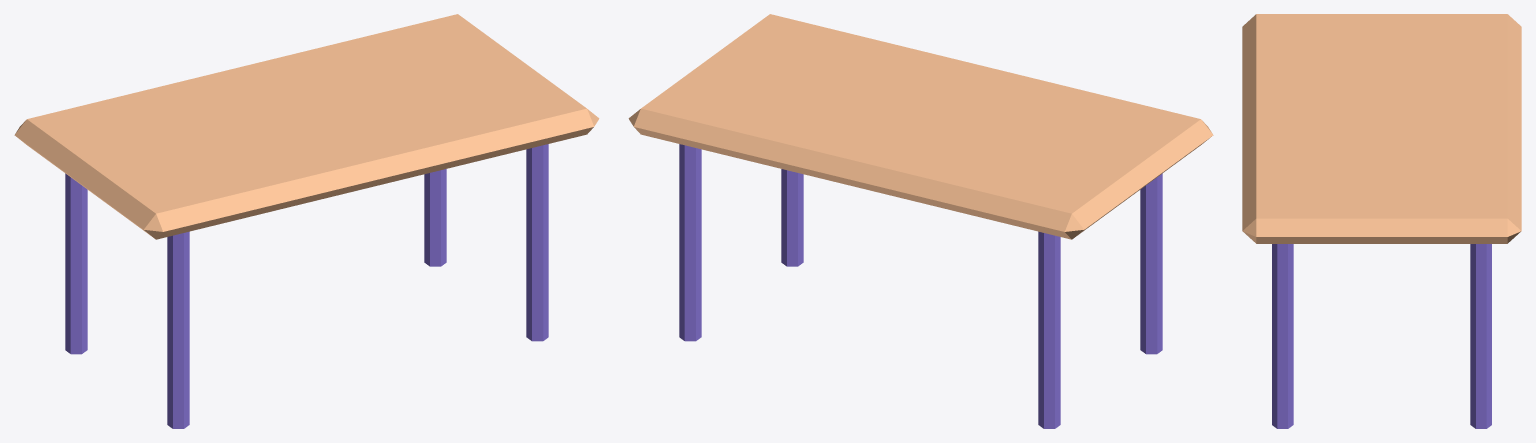
3 views of the same model, side by side, from view 1: azimuth 30°, elevation 25°; view 2: azimuth 150°, elevation 25°; view 3: azimuth 270°, elevation 25° (orthographic). The views are drawn at different scales.
Parts seen in each view (by area): view 1: Rounded table top, Leg.002, Leg, Leg.001, Leg.003; view 2: Rounded table top, Leg.003, Leg.001, Leg, Leg.002; view 3: Rounded table top, Leg.002, Leg.003.
Part boxes in pixels (left/top/right/bottom): Rounded table top: left=14, top=14, right=599, bottom=239; Leg.002: left=526, top=144, right=548, bottom=341; Leg: left=167, top=231, right=189, bottom=428; Leg.001: left=65, top=173, right=87, bottom=354; Leg.003: left=424, top=169, right=446, bottom=266; Rounded table top: left=628, top=14, right=1213, bottom=239; Leg.003: left=679, top=144, right=701, bottom=341; Leg.001: left=1038, top=231, right=1060, bottom=428; Leg: left=1140, top=173, right=1162, bottom=354; Leg.002: left=781, top=169, right=803, bottom=266; Rounded table top: left=1242, top=14, right=1521, bottom=243; Leg.002: left=1272, top=244, right=1293, bottom=428; Leg.003: left=1470, top=244, right=1491, bottom=428.
Bounding box in the file's own units: 1.65 × 0.795 × 0.9.
1 material, 1 textured.
